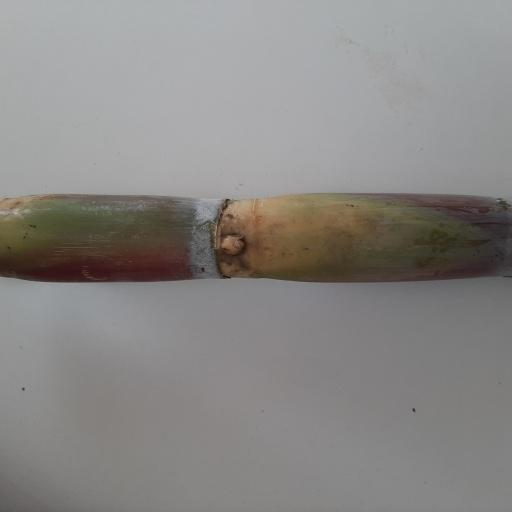Bud: (218, 234, 247, 257)
